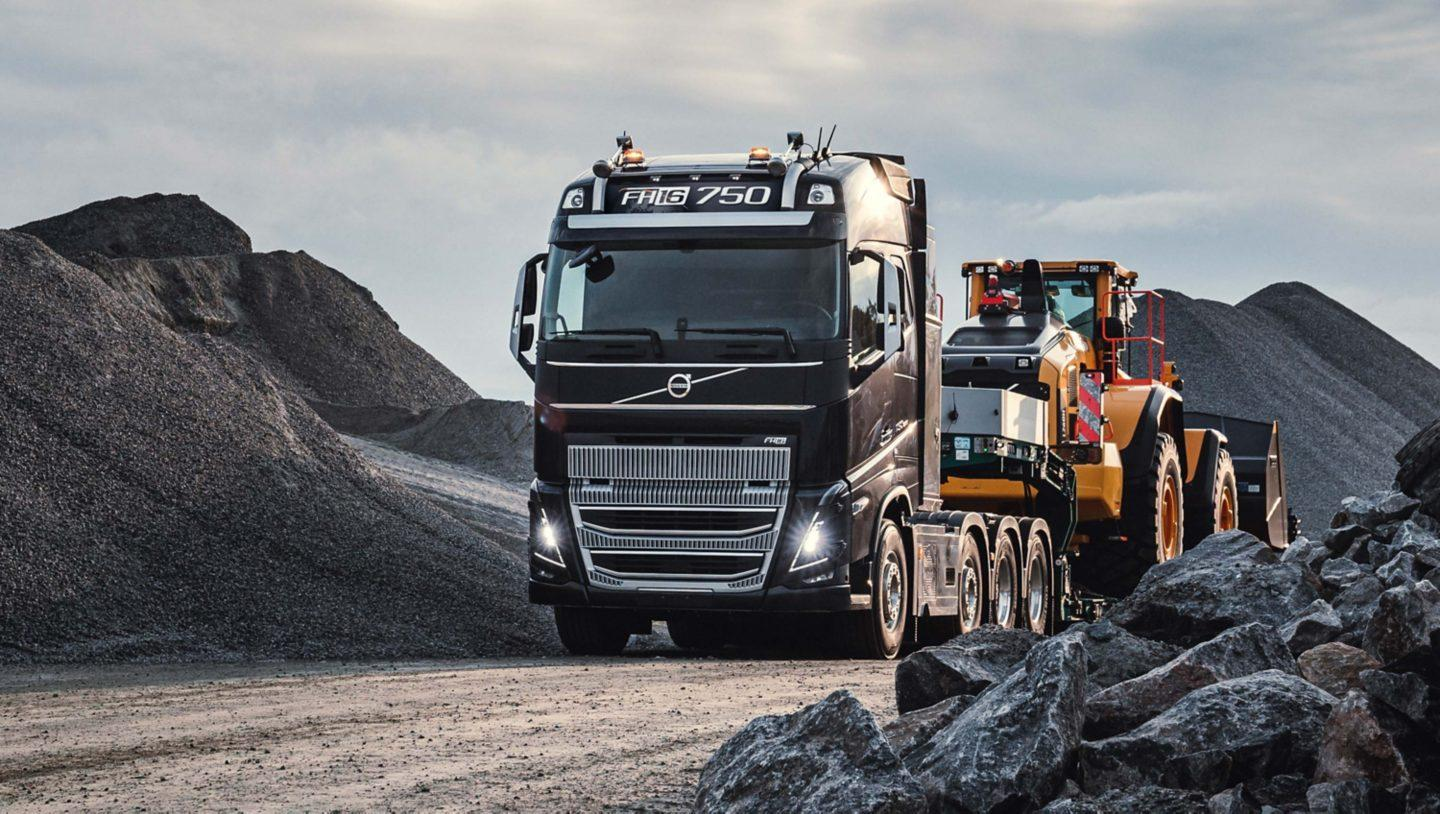truck: (509, 133, 1293, 660)
